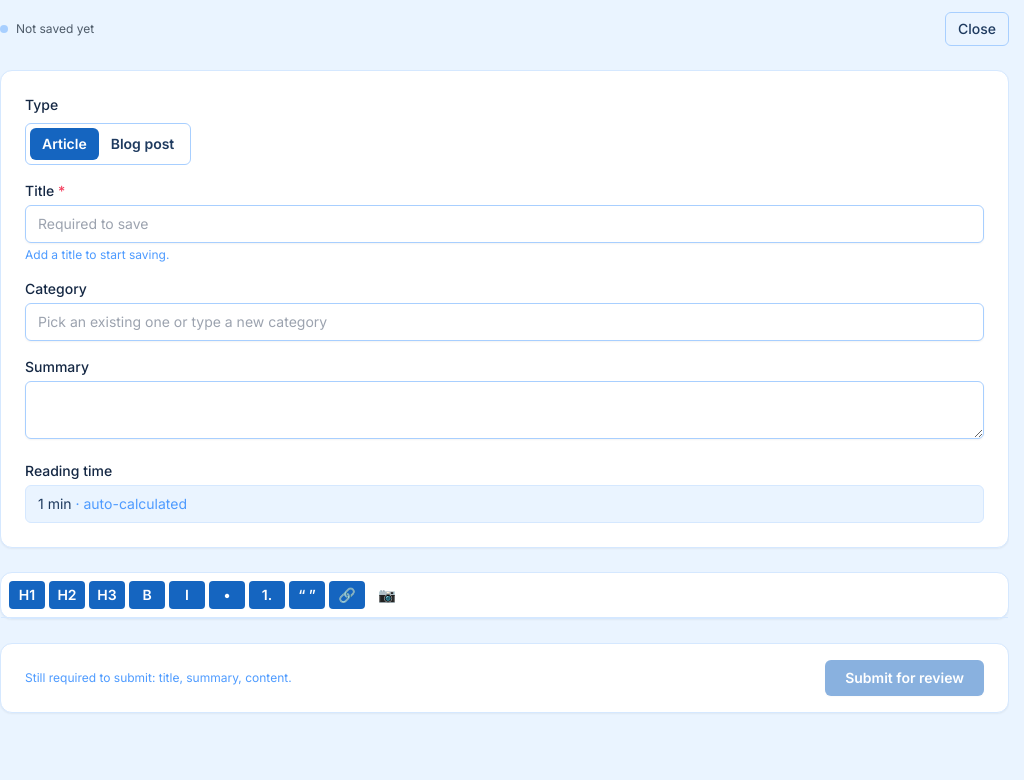
Scenario: DraftEditor › clears the category
The image size is (1024, 780).
In the field with id "draft-category": (504, 322) [25,303,984,341], type "Community"
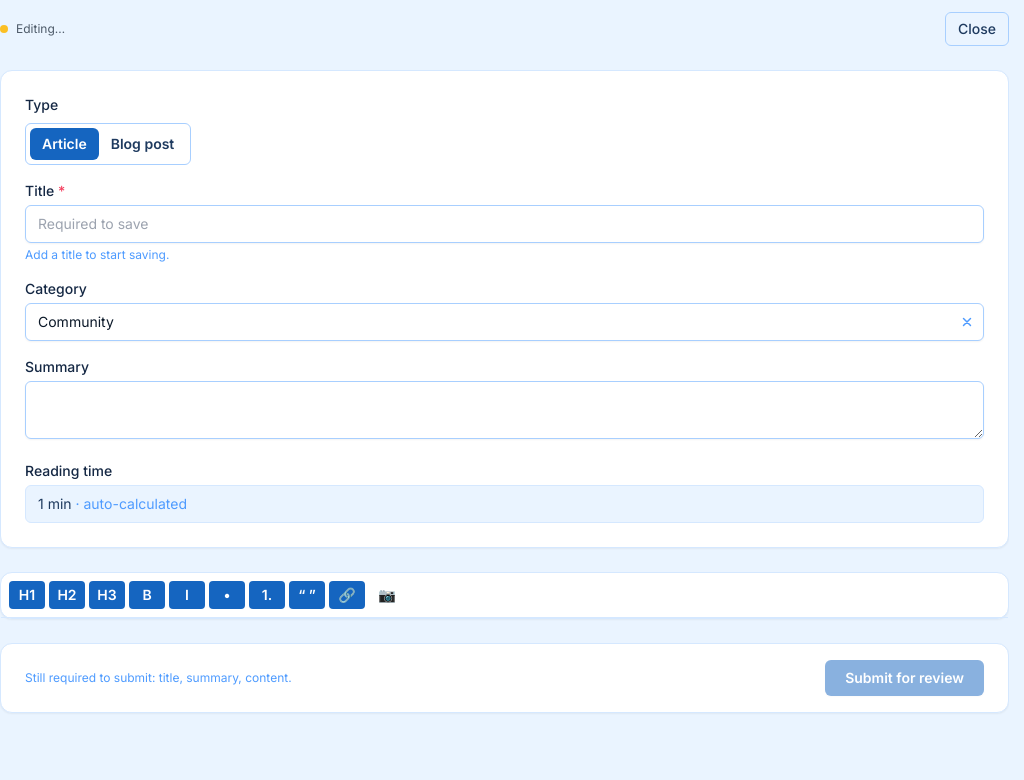
Now the button with test id "draft-category-clear" is shown
Click the button with test id "draft-category-clear": (967, 322) [950,303,984,341]
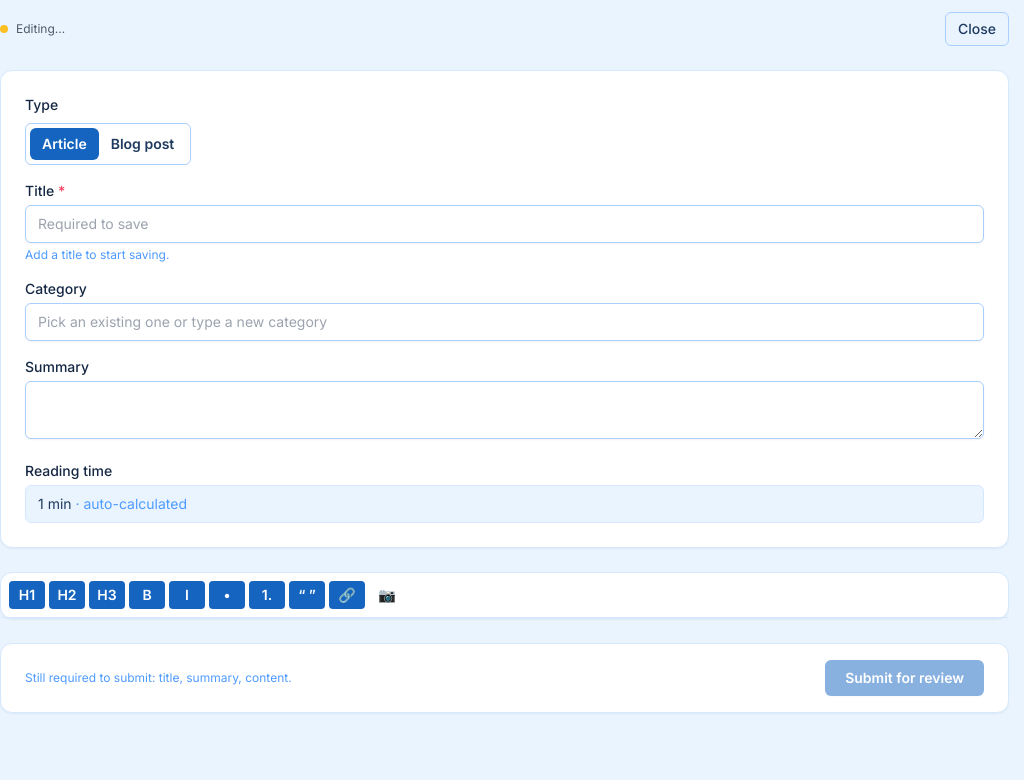
Now the field with id "draft-category" is empty, box [25,303,984,341]
